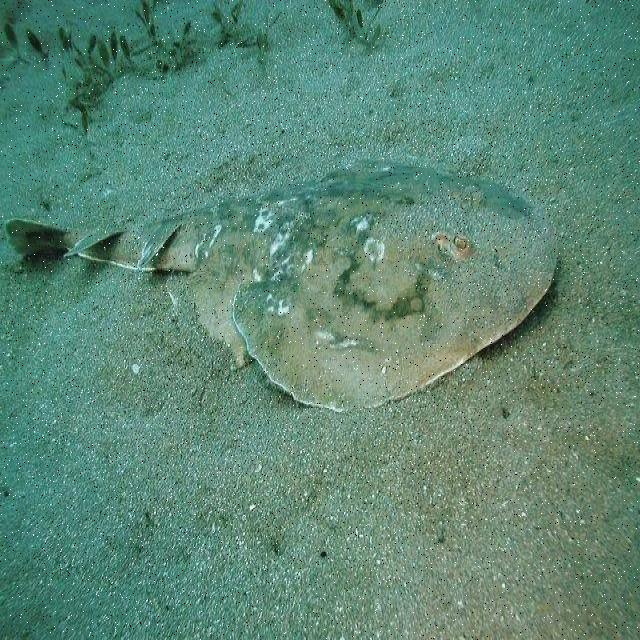fish: (4, 161, 557, 414)
